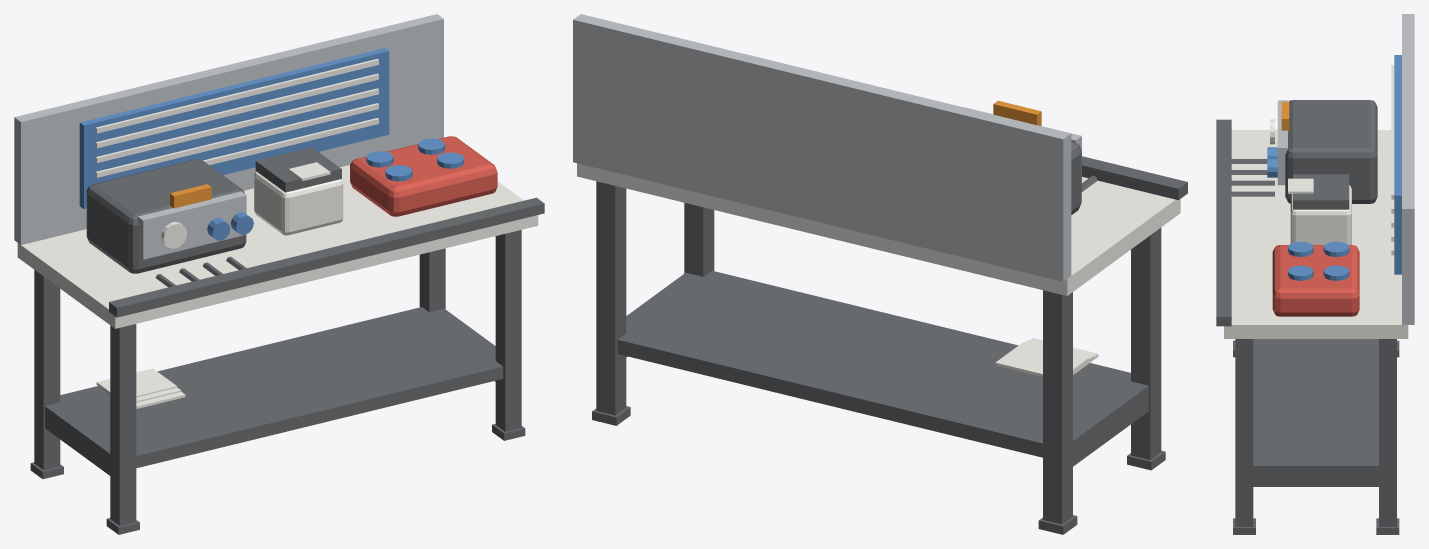
The model's file is tool-hire-depot-and-plant-yard-tool-hire-depot-and-pla-e97b6523__35335.glb.
3 renders of one model, left to right at view 1: azimuth 30°, elevation 25°; view 2: azimuth 150°, elevation 25°; view 3: azimuth 270°, elevation 25°, orthographic. The views are drawn at different scales.
Parts seen in each view (by area): view 1: tool-hire-depot-and-plant-yard-pat-test-bench; view 2: tool-hire-depot-and-plant-yard-pat-test-bench; view 3: tool-hire-depot-and-plant-yard-pat-test-bench.
Part boxes in pixels (x1=…): tool-hire-depot-and-plant-yard-pat-test-bench: x1=14, y1=14, x2=544, y2=534; tool-hire-depot-and-plant-yard-pat-test-bench: x1=573, y1=14, x2=1187, y2=534; tool-hire-depot-and-plant-yard-pat-test-bench: x1=1216, y1=14, x2=1414, y2=534.
Bounding box in the file's own units: 1.82 × 1.42 × 0.7751.
